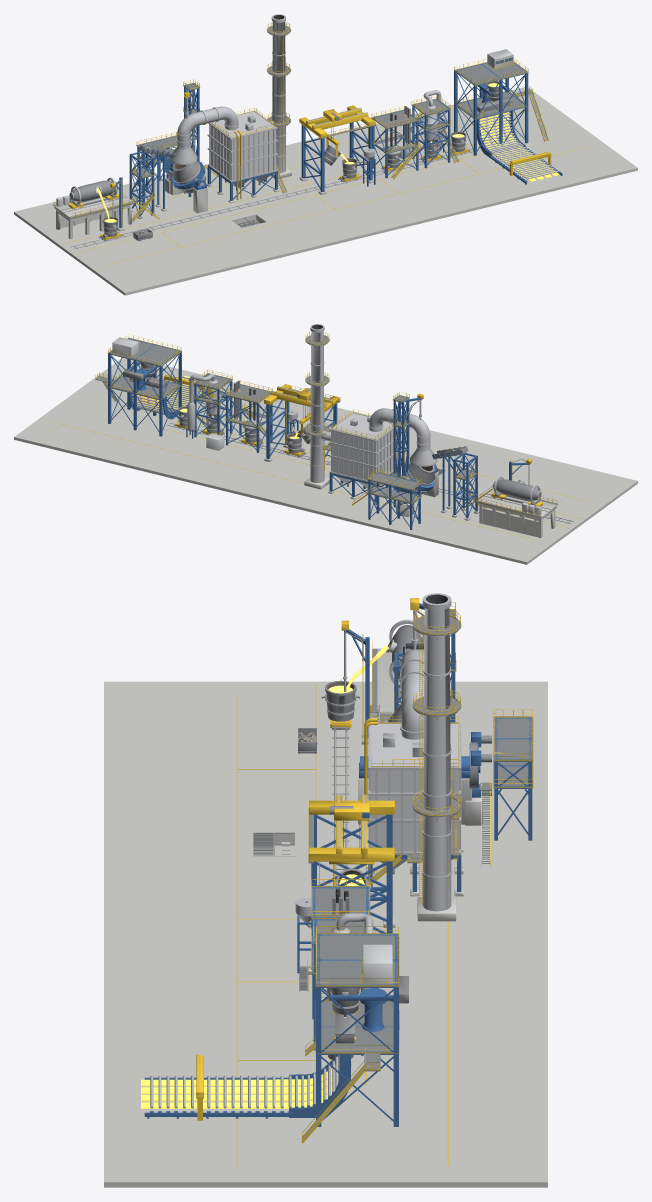
File: steelmaking.glb
3 views of the same model, one above another, from view 1: azimuth 30°, elevation 25°; view 2: azimuth 150°, elevation 25°; view 3: azimuth 270°, elevation 25° (orthographic). The views are drawn at different scales.
Parts seen in each view (by area): view 1: Floor_Slab, S3_Gas_Cleaning_Plant, S6_Caster_Tower, S4_Ladle_Crane, S6_Strands_Segments, S3_Stack, S5_Ladle_Furnace, S3_Hood_Duct_Lance, S5_RH_Degasser, S2_Scrap_Chute, S1_Elevated_Track, Floor_Markings (+8 smaller); view 2: Floor_Slab, S3_Gas_Cleaning_Plant, S6_Caster_Tower, S3_Hood_Duct_Lance, S3_Stack, S5_Ladle_Furnace, S1_Elevated_Track, S5_RH_Degasser, S4_Ladle_Crane, S3_Charging_Platform, S2_Scrap_Chute, S6_Strands_Segments (+7 smaller); view 3: Floor_Slab, S3_Stack, S6_Caster_Tower, S3_Gas_Cleaning_Plant, S6_Strands_Segments, S4_Ladle_Crane, S3_Charging_Platform, S3_Hood_Duct_Lance, S6_Turret_Ladle_Tundish, S5_Ladle_Furnace, S3_Converter_Bearings_Drive, Floor_Markings (+6 smaller).
Part boxes in pixels (x1,y1,x2,y2): Floor_Slab: [14, 87, 637, 295]; S3_Gas_Cleaning_Plant: [206, 107, 287, 202]; S6_Caster_Tower: [454, 49, 548, 155]; S4_Ladle_Crane: [299, 105, 375, 194]; S6_Strands_Segments: [477, 110, 562, 184]; S3_Stack: [266, 14, 291, 178]; S5_Ladle_Furnace: [371, 106, 420, 179]; S3_Hood_Duct_Lance: [170, 79, 238, 196]; S5_RH_Degasser: [411, 90, 458, 168]; S2_Scrap_Chute: [129, 144, 175, 222]; S1_Elevated_Track: [53, 190, 159, 239]; Floor_Markings: [55, 109, 588, 264]; Floor_Slab: [14, 357, 637, 564]; S3_Gas_Cleaning_Plant: [321, 409, 398, 504]; S6_Caster_Tower: [95, 334, 182, 436]; S3_Hood_Duct_Lance: [368, 391, 437, 507]; S3_Stack: [304, 324, 329, 489]; S5_Ladle_Furnace: [206, 380, 273, 452]; S1_Elevated_Track: [468, 486, 558, 537]; S5_RH_Degasser: [186, 369, 232, 438]; S4_Ladle_Crane: [264, 384, 340, 461]; S3_Charging_Platform: [352, 468, 421, 529]; S2_Scrap_Chute: [432, 446, 487, 520]; S6_Strands_Segments: [129, 375, 206, 419]; Floor_Slab: [104, 681, 547, 1187]; S3_Stack: [412, 593, 461, 921]; S6_Caster_Tower: [301, 926, 399, 1143]; S3_Gas_Cleaning_Plant: [364, 716, 463, 896]; S6_Strands_Segments: [141, 1055, 350, 1120]; S4_Ladle_Crane: [308, 794, 395, 974]; S3_Charging_Platform: [480, 709, 533, 865]; S3_Hood_Duct_Lance: [387, 598, 456, 739]; S6_Turret_Ladle_Tundish: [329, 976, 408, 1043]; S5_Ladle_Furnace: [299, 879, 399, 1030]; S3_Converter_Bearings_Drive: [358, 732, 491, 825]; Floor_Markings: [236, 684, 448, 1166].
Size of the model in its own units: 32 by 9.78 by 12.
